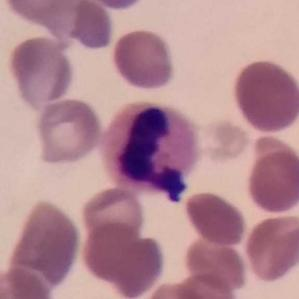Neutrophil: (98, 96, 205, 209)
RBC: (5, 196, 84, 288), (78, 220, 167, 299), (5, 33, 77, 110), (230, 57, 299, 135), (33, 96, 104, 166), (108, 26, 178, 93), (181, 231, 250, 294), (241, 211, 299, 285), (243, 142, 299, 217), (182, 188, 249, 248), (79, 185, 146, 244), (191, 116, 256, 166), (66, 0, 114, 52), (1, 0, 82, 26), (172, 270, 241, 299), (0, 265, 54, 299), (140, 278, 211, 299), (78, 0, 152, 11)
